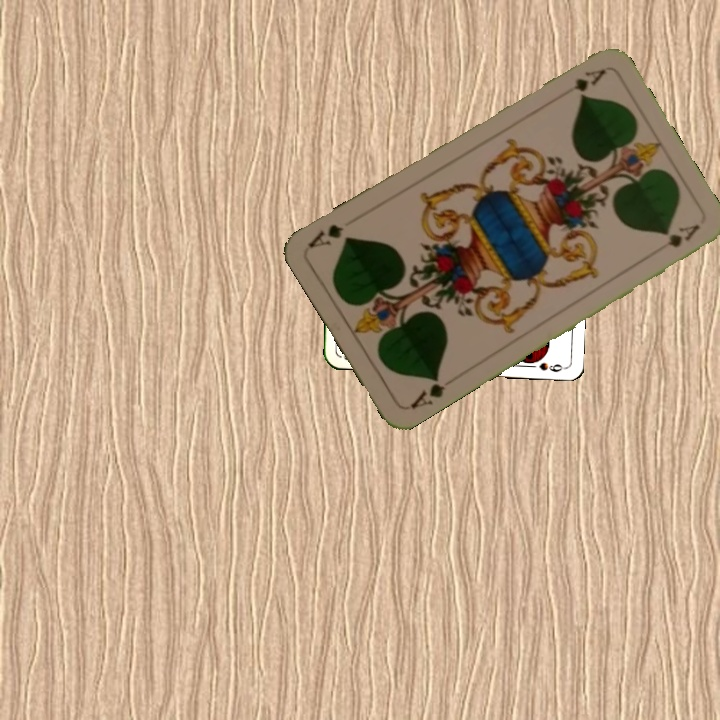GA: (554, 65, 609, 102), (406, 371, 448, 412)
